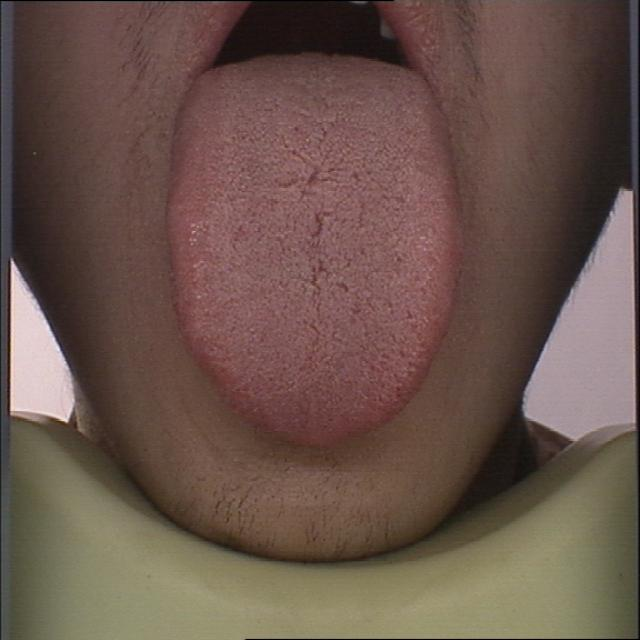tongue: (164, 57, 470, 455)
